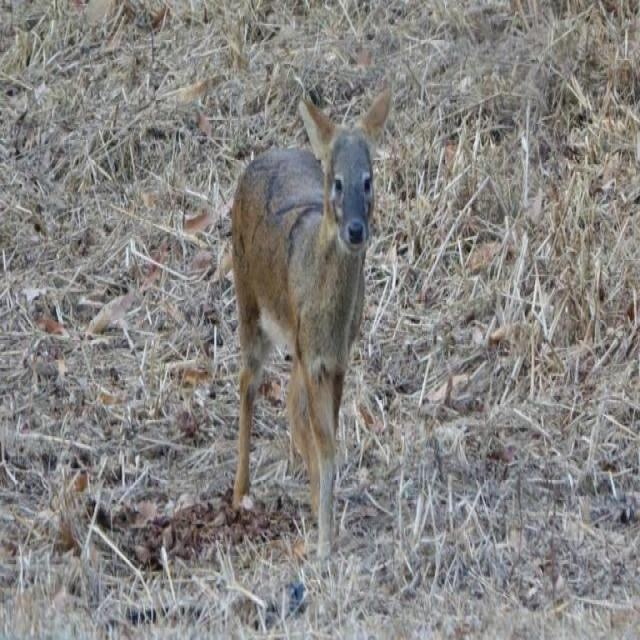deer: (212, 69, 400, 567)
